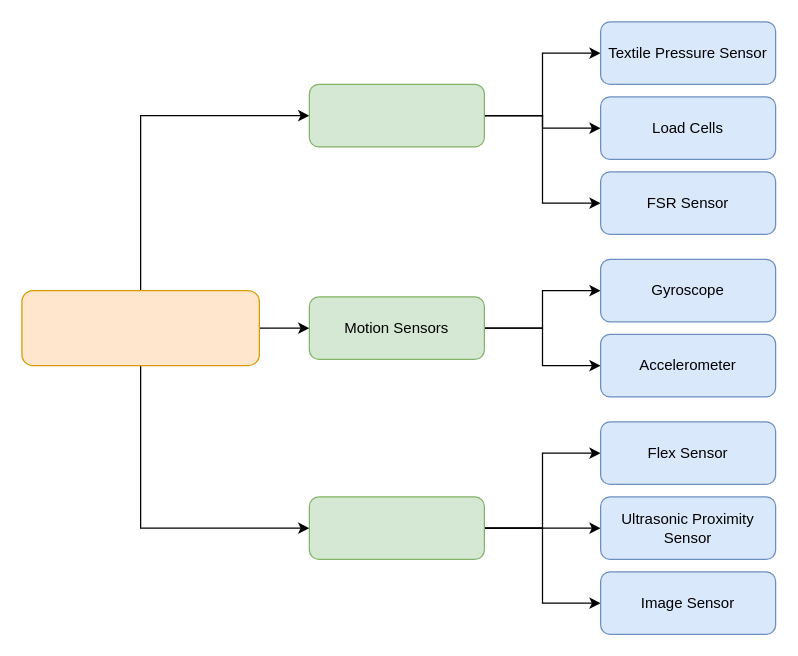
Some shapes in this 798 by 656 pixel diagram are drawn without their labels. The shapes that lost their labels are listed below. From the top down, each one's centre as x and y in pixels, then its label:
point 396,115: Pressure Sensors
point 140,327: Smart Sensing Chair Sensors
point 396,527: Others
